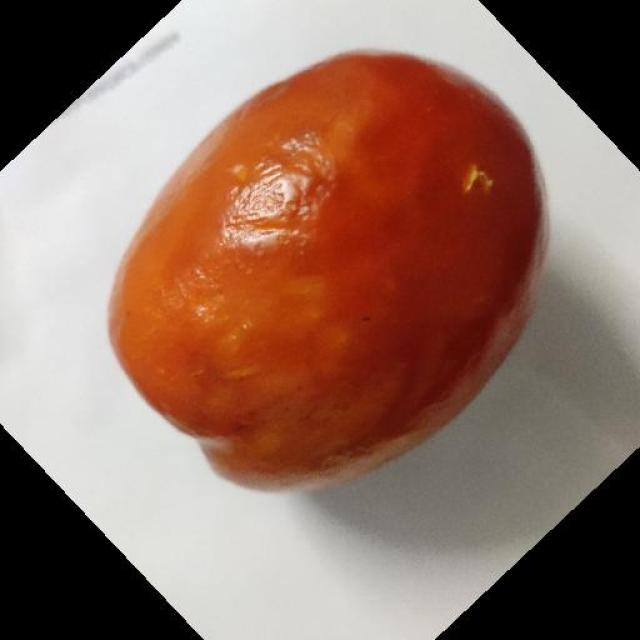Stale_tomato: (122, 42, 548, 454)
